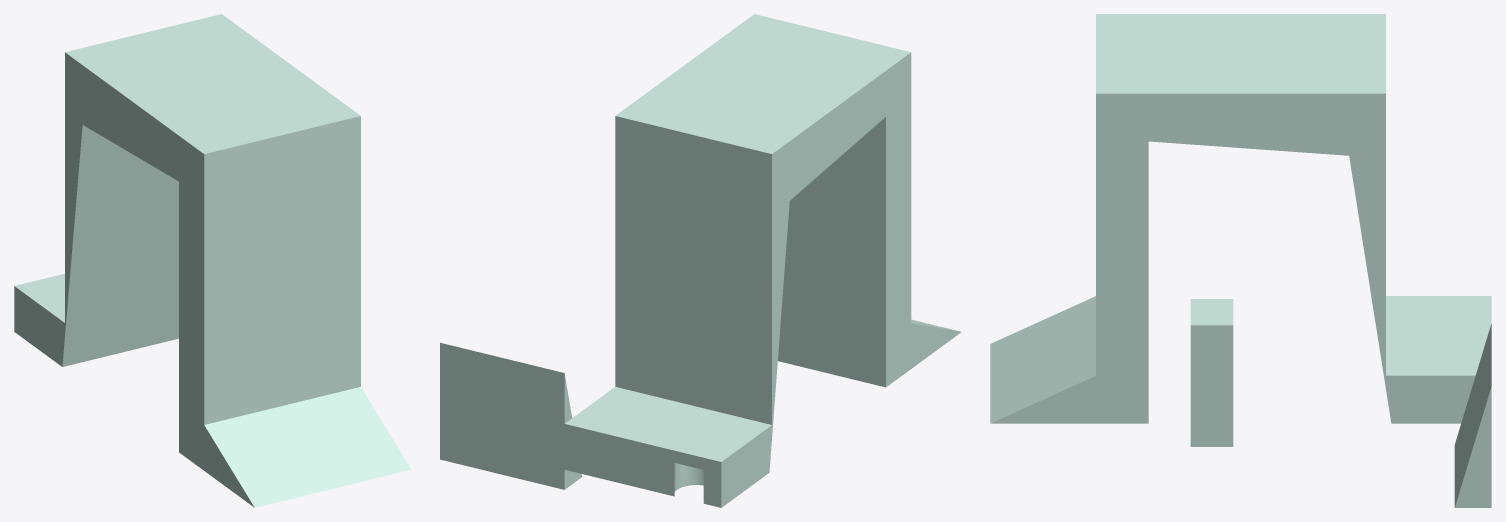
The picture shows the model from 3 angles, left to right: view 1: azimuth 30°, elevation 25°; view 2: azimuth 150°, elevation 25°; view 3: azimuth 270°, elevation 25°; orthographic projection. The views are drawn at different scales.
Parts seen in each view (by area): view 1: Renderer Node; view 2: Renderer Node; view 3: Renderer Node.
Boxes of the visible parts, x1,y1,x2,y2 form: Renderer Node: [14, 14, 411, 507]; Renderer Node: [440, 14, 961, 507]; Renderer Node: [990, 14, 1491, 507].
Size of the model in its own units: 1.02 by 1.18 by 1.52.
